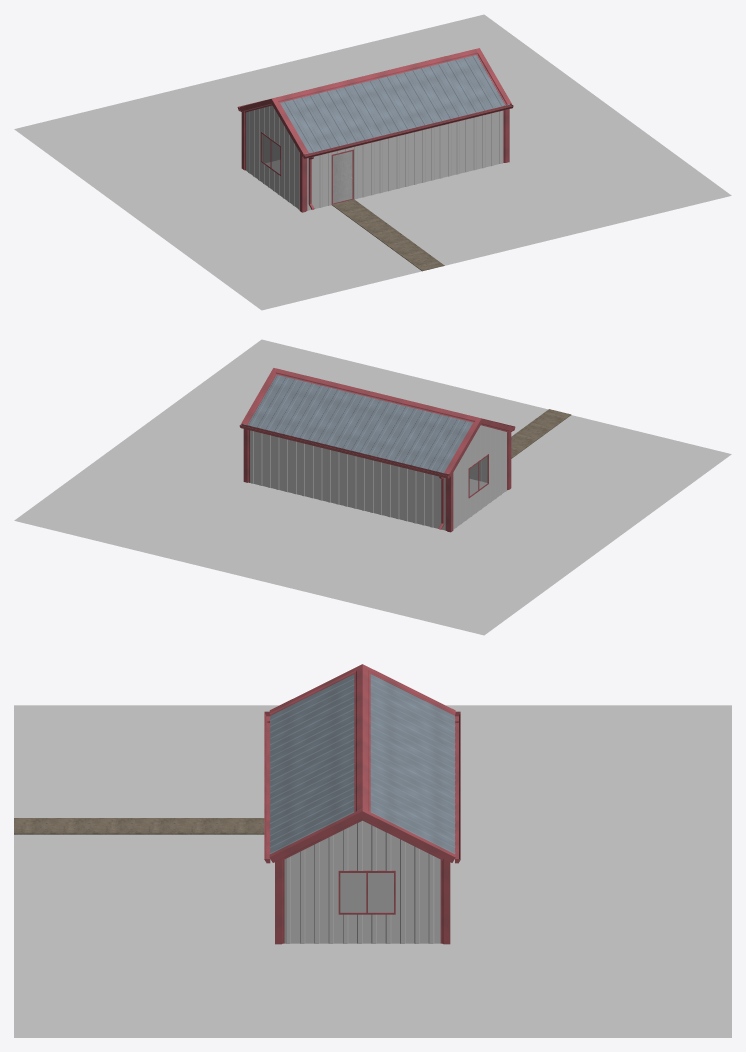
Rendered from barn02.dae.
The picture shows the model from 3 angles, top to bottom: view 1: azimuth 30°, elevation 25°; view 2: azimuth 150°, elevation 25°; view 3: azimuth 270°, elevation 25°; orthographic projection. The views are drawn at different scales.
Parts seen in each view (by area): view 1: group_13 (×2), group_2, group_7, instance_9, group_0, group_9, group_6, instance_5, instance_1; view 2: group_13 (×2), group_3, group_1, instance_9, group_0, group_10, instance_6, instance_3; view 3: group_13 (×2), instance_0, group_3, group_2, group_0, group_5 (×2), instance_7, instance_8, group_9, instance_4, group_10, instance_2.
Part boxes in pixels (<box>): group_13 (×2): <box>14,14,731,310</box>; group_2: <box>280,55,509,154</box>; group_7: <box>307,106,503,210</box>; instance_9: <box>246,105,299,209</box>; group_0: <box>276,49,477,102</box>; group_9: <box>303,104,513,158</box>; group_6: <box>333,151,352,203</box>; instance_5: <box>271,98,308,156</box>; instance_1: <box>299,152,307,212</box>; group_13 (×2): <box>14,339,731,635</box>; group_3: <box>243,375,472,473</box>; group_1: <box>250,427,445,530</box>; instance_9: <box>453,425,506,529</box>; group_0: <box>275,368,477,422</box>; group_10: <box>239,424,449,478</box>; instance_6: <box>444,417,481,476</box>; instance_3: <box>445,472,453,532</box>; group_13 (×2): <box>14,705,731,1037</box>; instance_0: <box>284,820,440,943</box>; group_3: <box>370,674,455,853</box>; group_2: <box>270,674,360,853</box>; group_0: <box>354,667,370,812</box>; group_5 (×2): <box>340,873,393,912</box>; instance_7: <box>362,808,455,862</box>; instance_8: <box>269,808,362,862</box>; group_9: <box>264,711,270,863</box>; instance_4: <box>440,858,450,944</box>; group_10: <box>455,711,460,863</box>; instance_2: <box>275,859,284,944</box>.
Size of the model in its own units: 802 by 732 by 150.
